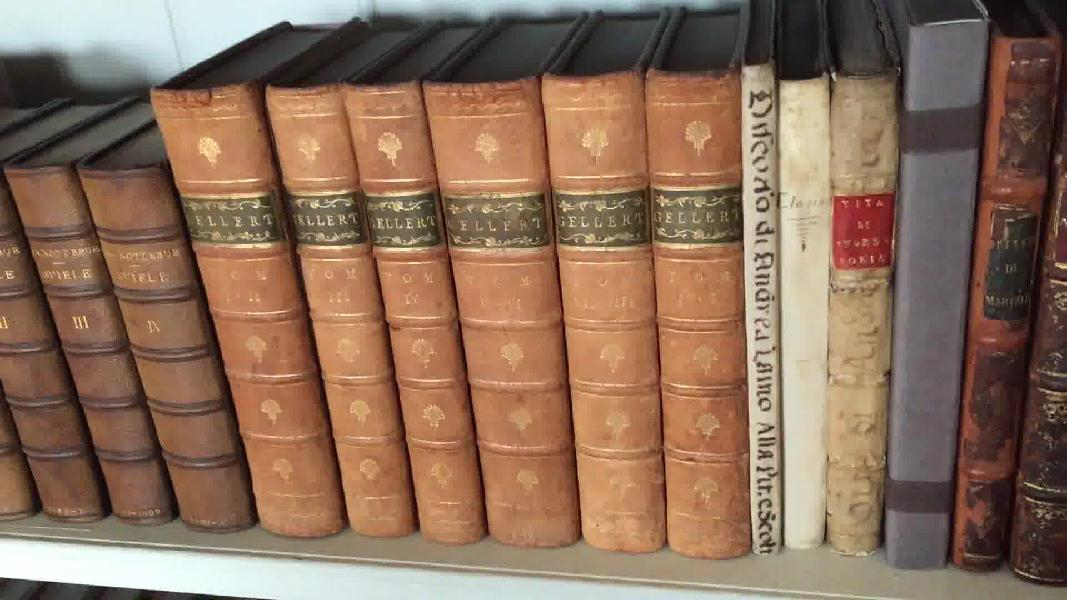Aa6-18_23: (142, 63, 763, 562)
Aa6-24: (740, 67, 778, 562)
Aa6-25: (777, 79, 836, 555)
Aa6-26: (831, 70, 894, 557)
Aa6-27: (892, 17, 978, 566)
Aa6-28: (946, 12, 1062, 578)
